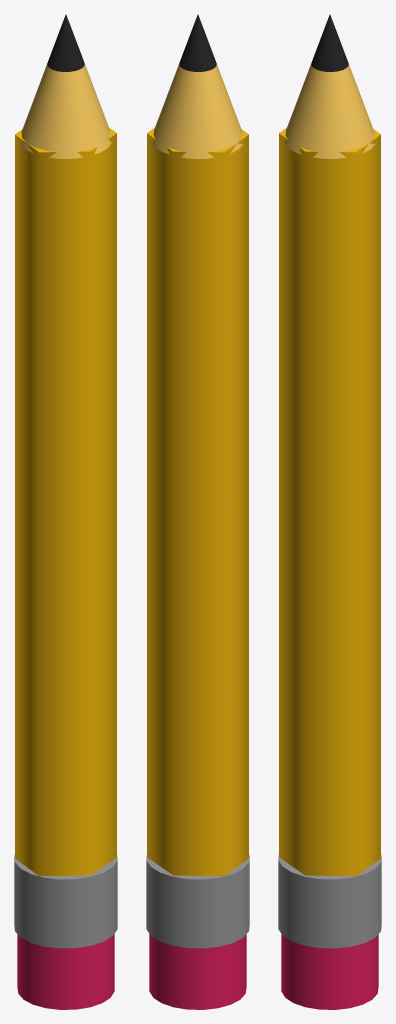
The model's file is lucyCouch.fbx.
3 views of the same model, side by side, from view 1: azimuth 30°, elevation 25°; view 2: azimuth 150°, elevation 25°; view 3: azimuth 330°, elevation 25° (orthographic).
Parts seen in each view (by area): view 1: $ColladaAutoName$_3, $ColladaAutoName$_1, $ColladaAutoName$_2, $ColladaAutoName$_5, $ColladaAutoName$_4; view 2: $ColladaAutoName$_3, $ColladaAutoName$_1, $ColladaAutoName$_2, $ColladaAutoName$_5, $ColladaAutoName$_4; view 3: $ColladaAutoName$_3, $ColladaAutoName$_1, $ColladaAutoName$_2, $ColladaAutoName$_5, $ColladaAutoName$_4.
Part boxes in pixels (box(x1,y1,x2,y2)): $ColladaAutoName$_3: box(15, 127, 116, 876); $ColladaAutoName$_1: box(14, 855, 117, 948); $ColladaAutoName$_2: box(17, 934, 114, 1009); $ColladaAutoName$_5: box(20, 63, 111, 158); $ColladaAutoName$_4: box(47, 14, 84, 71); $ColladaAutoName$_3: box(147, 127, 248, 876); $ColladaAutoName$_1: box(146, 855, 249, 948); $ColladaAutoName$_2: box(149, 934, 246, 1009); $ColladaAutoName$_5: box(152, 63, 243, 158); $ColladaAutoName$_4: box(179, 14, 216, 71); $ColladaAutoName$_3: box(279, 127, 380, 876); $ColladaAutoName$_1: box(278, 855, 381, 948); $ColladaAutoName$_2: box(281, 934, 378, 1009); $ColladaAutoName$_5: box(284, 63, 375, 158); $ColladaAutoName$_4: box(311, 14, 348, 71).
Bounding box in the file's own units: 33.97 × 350 × 33.52.
